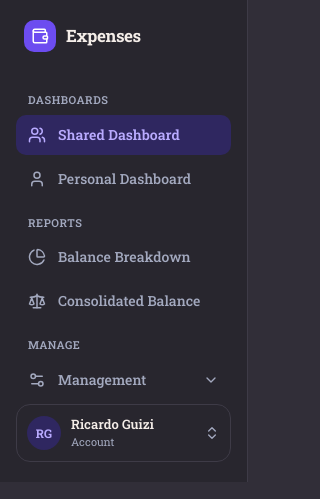
Test: AppSidebar theme item › offers the light theme while dark is active
Click the button with aria-label "Account menu".
click(124, 432)  # box [16, 404, 231, 462]
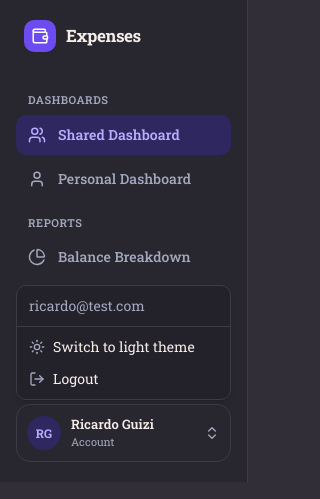
Now the menu item "Switch to light theme" is shown, box [29, 337, 195, 356]
